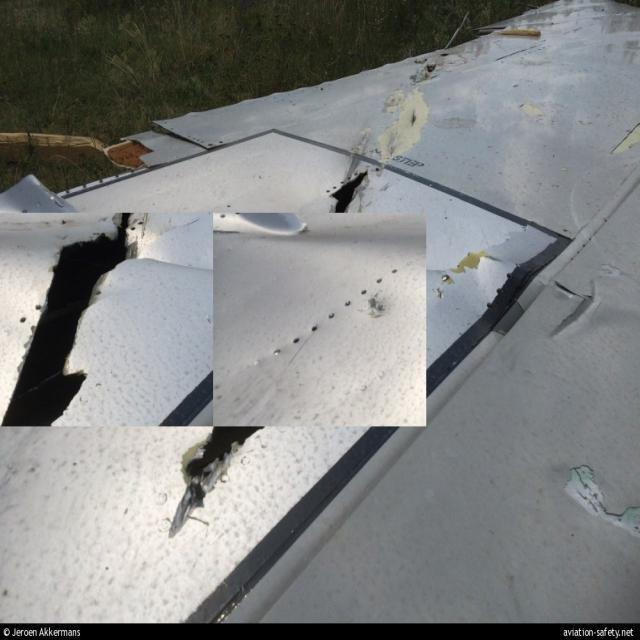crack: (2, 213, 143, 428), (176, 428, 269, 525), (559, 460, 640, 542), (547, 280, 604, 342), (328, 167, 370, 214), (408, 108, 419, 129)
dent: (361, 295, 394, 324)
